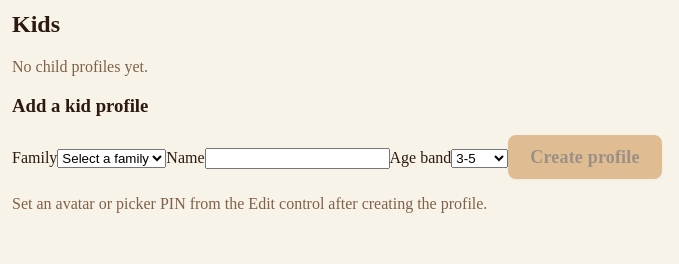
it: KidsTab › shows a forbidden message when create fails with 403
Select "Family A" in the dropdown labelled "Family": [112, 158] box [57,148,166,168]
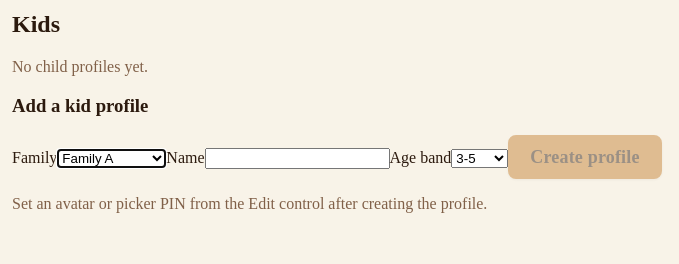
In the field labelled "Name": [297, 158] box [204,148,390,168], type "New Kid"
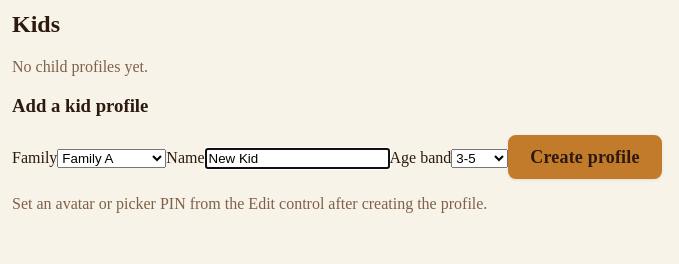
Click the button "Create profile": [585, 157] box [508,135,662,179]
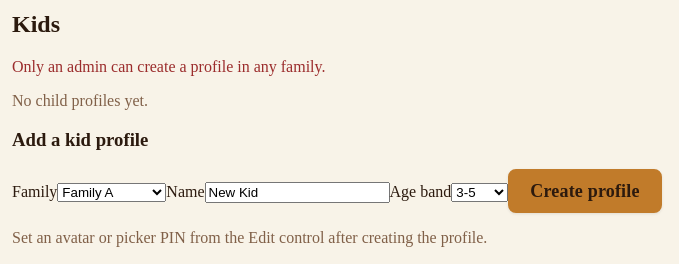
Now the message shows "Only an admin can create", box [12,58,326,75]
